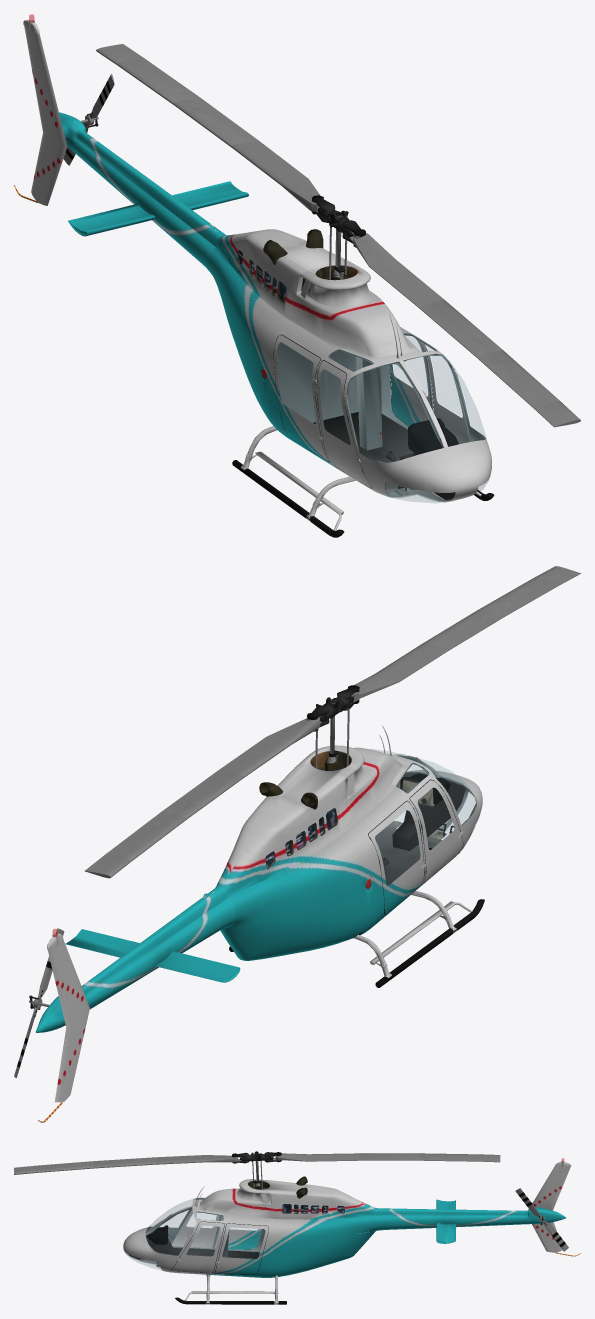
The model's file is heli_tour.glb.
3 views of the same model, one above another, from view 1: azimuth 30°, elevation 25°; view 2: azimuth 150°, elevation 25°; view 3: azimuth 270°, elevation 25° (orthographic). The views are drawn at different scales.
Parts seen in each view (by area): view 1: BODY, PROP0, PROP1; view 2: BODY, PROP0, PROP1; view 3: BODY, PROP0, PROP1.
Part boxes in pixels (x1,y1,x2,y2): BODY: [14, 14, 494, 537]; PROP0: [96, 44, 580, 427]; PROP1: [63, 74, 114, 165]; BODY: [36, 702, 484, 1122]; PROP0: [85, 566, 580, 878]; PROP1: [14, 928, 64, 1077]; BODY: [123, 1158, 580, 1304]; PROP0: [14, 1151, 500, 1189]; PROP1: [515, 1188, 568, 1251].
Size of the model in its own units: 2.04 by 3.07 by 11.86.
Materials: 11 (10 with a texture image).
